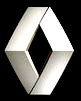Renault: (3, 3, 77, 97)
